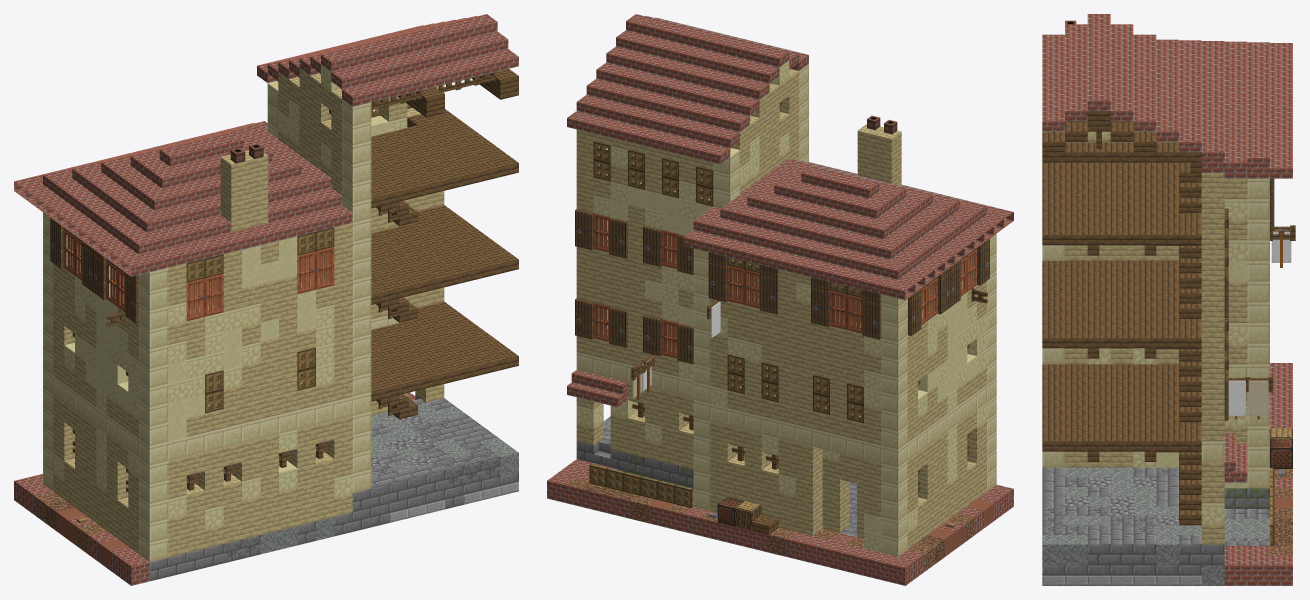
File: nha-05.fbx
The picture shows the model from 3 angles, left to right: view 1: azimuth 30°, elevation 25°; view 2: azimuth 150°, elevation 25°; view 3: azimuth 270°, elevation 25°; orthographic projection. The views are drawn at different scales.
Parts seen in each view (by area): view 1: nha-05; view 2: nha-05; view 3: nha-05.
Boxes of the visible parts, x1,y1,x2,y2 form: nha-05: (14,14,518,585); nha-05: (547,14,1013,585); nha-05: (1042,14,1295,585).
Size of the model in its own units: 2100 by 2350 by 1113.
1 material, 1 textured.
